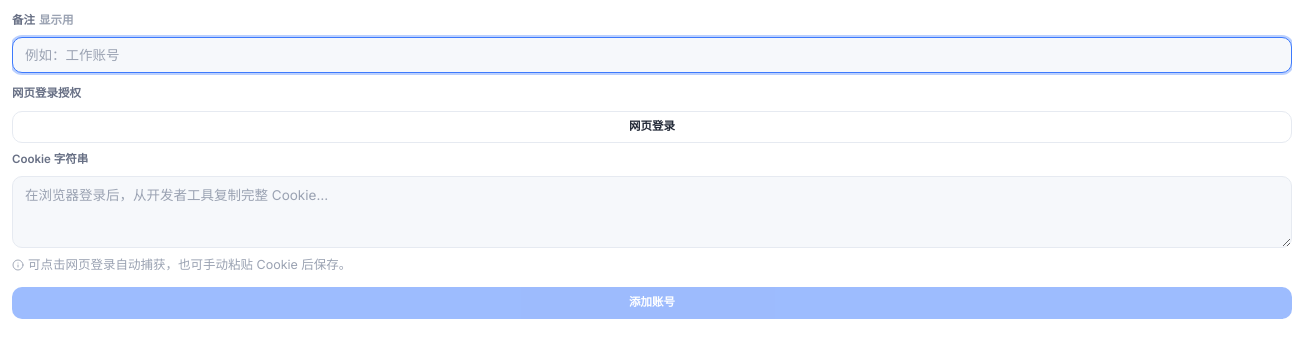
Test: WebLoginForm › shows Chinese timeout when session.login rejects timed out (t282)
Click the button "网页登录" at (652, 126), box [12,110,1292,142]
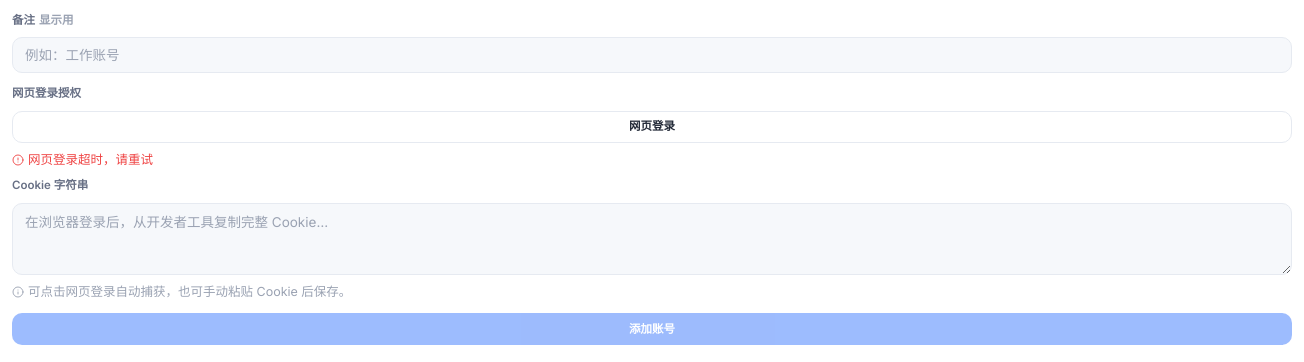
Now the text "网页登录超时，请重试" is shown, box [12,152,153,166]
